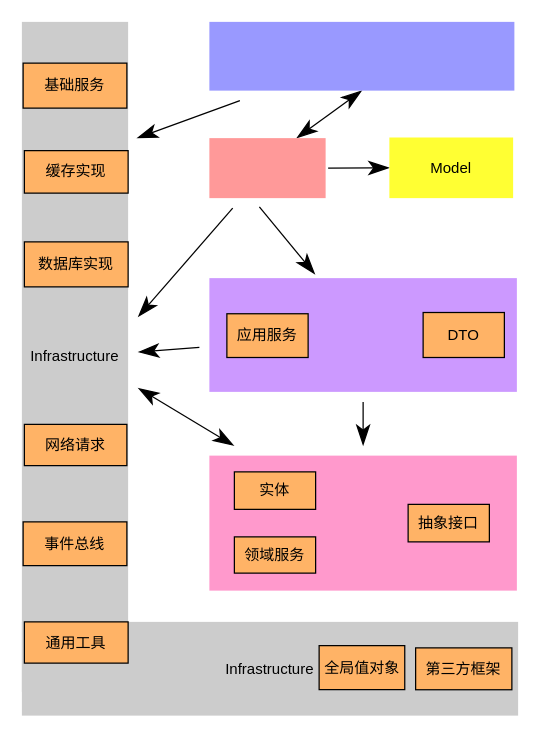
This 539x736 diagram has some shape labels left out. Here are the shapes that lost their labels. From the top down, the box of each, then its label:
(209, 21, 514, 90): View
(209, 138, 325, 198): Presenter
(209, 278, 516, 391): Application
(209, 455, 516, 590): Domain
